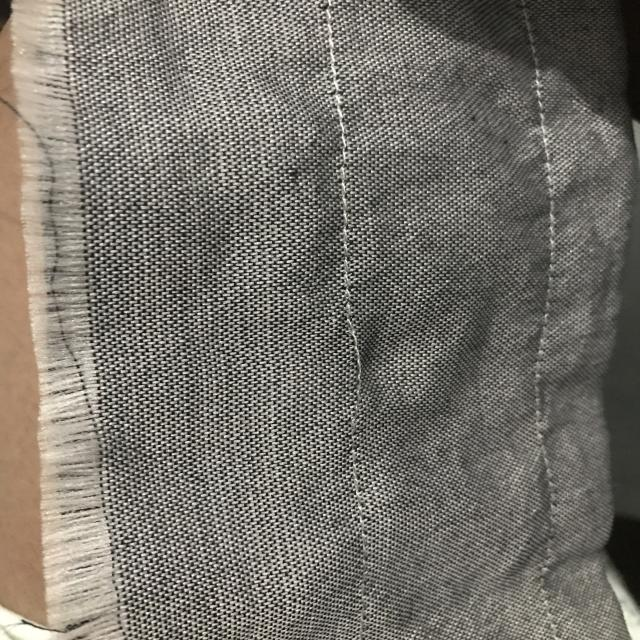good: (324, 167, 370, 268)
skip: (307, 303, 381, 417)
